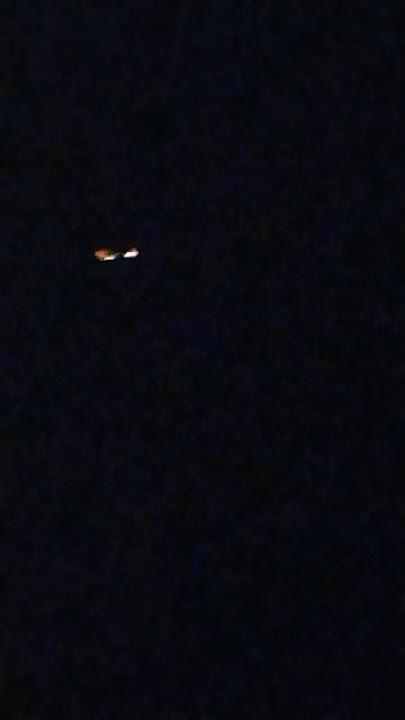Plane: (86, 229, 144, 286)
